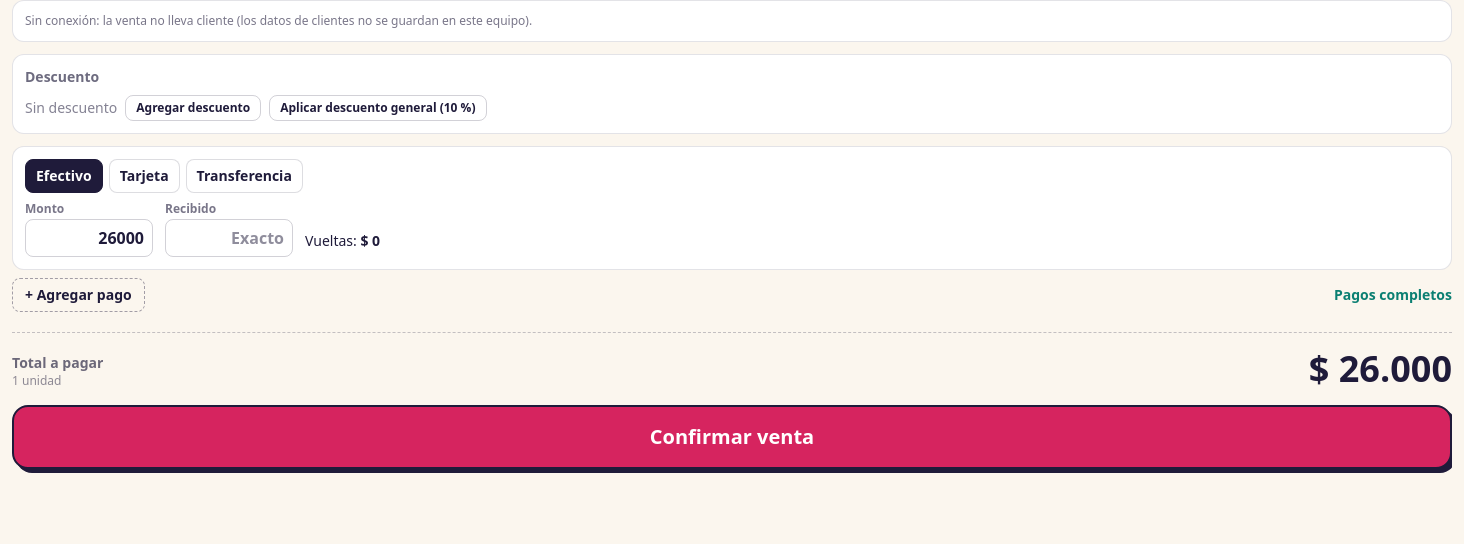
Test: Confirmar una venta sin conexion (Fase 9) › si el navegador no puede guardar datos, avisa en vez de perder la venta
Click the button "Confirmar venta".
click(732, 437)  # box top-left (12, 405), bottom-right (1452, 469)
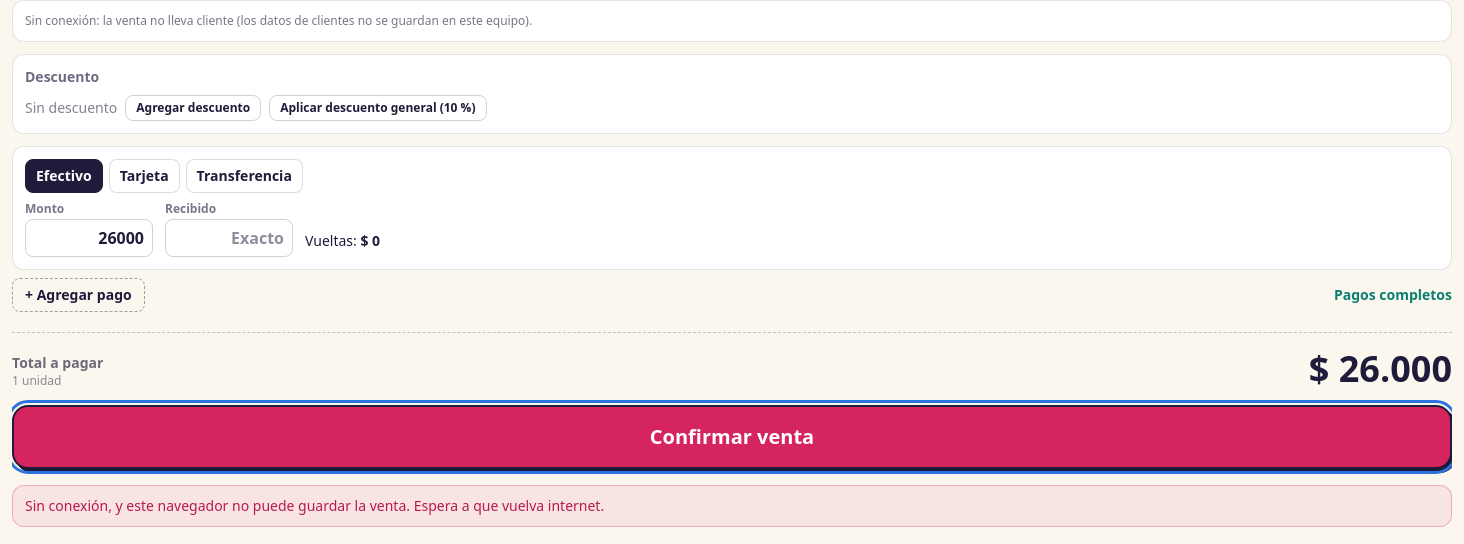
Result: the text "este navegador no puede guardar la venta" is shown at top-left (25, 496), bottom-right (604, 515)
